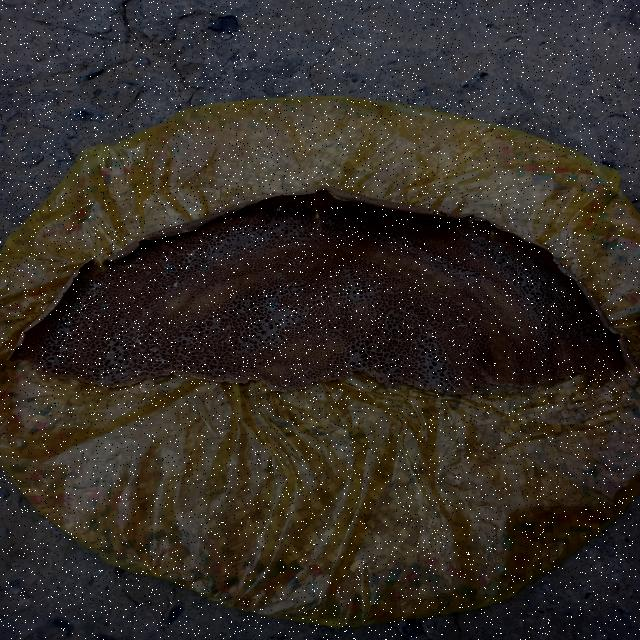injera_mold: (134, 356, 168, 373), (88, 280, 111, 300), (129, 330, 146, 348), (184, 248, 200, 262), (163, 264, 180, 274), (273, 204, 286, 214), (168, 282, 181, 288), (56, 329, 66, 336), (71, 305, 80, 312), (89, 310, 99, 316), (326, 220, 335, 226), (268, 302, 277, 308), (100, 303, 108, 309), (61, 319, 70, 324), (262, 290, 268, 297), (264, 225, 270, 232), (204, 266, 212, 271), (134, 250, 142, 255), (125, 280, 131, 286), (204, 302, 210, 308), (172, 324, 179, 329), (470, 253, 478, 257), (601, 331, 607, 336), (278, 276, 285, 280), (75, 292, 82, 296), (112, 268, 117, 272), (83, 282, 87, 286), (290, 217, 294, 221), (531, 288, 536, 291), (194, 283, 199, 286), (560, 306, 564, 309), (520, 288, 524, 291), (252, 238, 255, 242), (517, 273, 520, 276), (515, 270, 519, 272), (522, 254, 524, 258), (520, 328, 522, 331), (573, 299, 576, 301), (538, 287, 541, 289), (526, 287, 529, 289), (251, 235, 254, 237), (230, 218, 233, 220), (266, 214, 268, 217), (532, 268, 534, 270)
